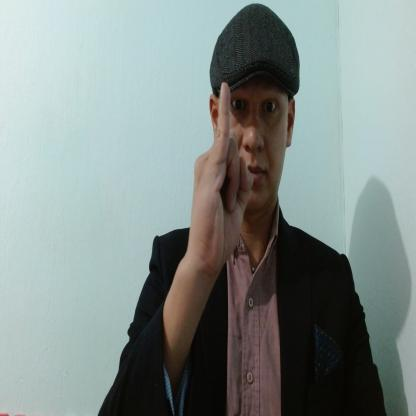I: (189, 80, 254, 261)
